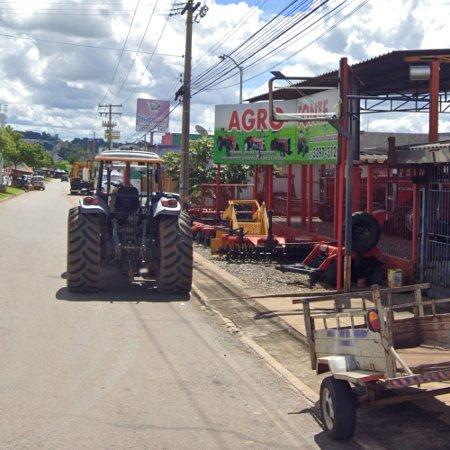tractors: (68, 152, 193, 294)
